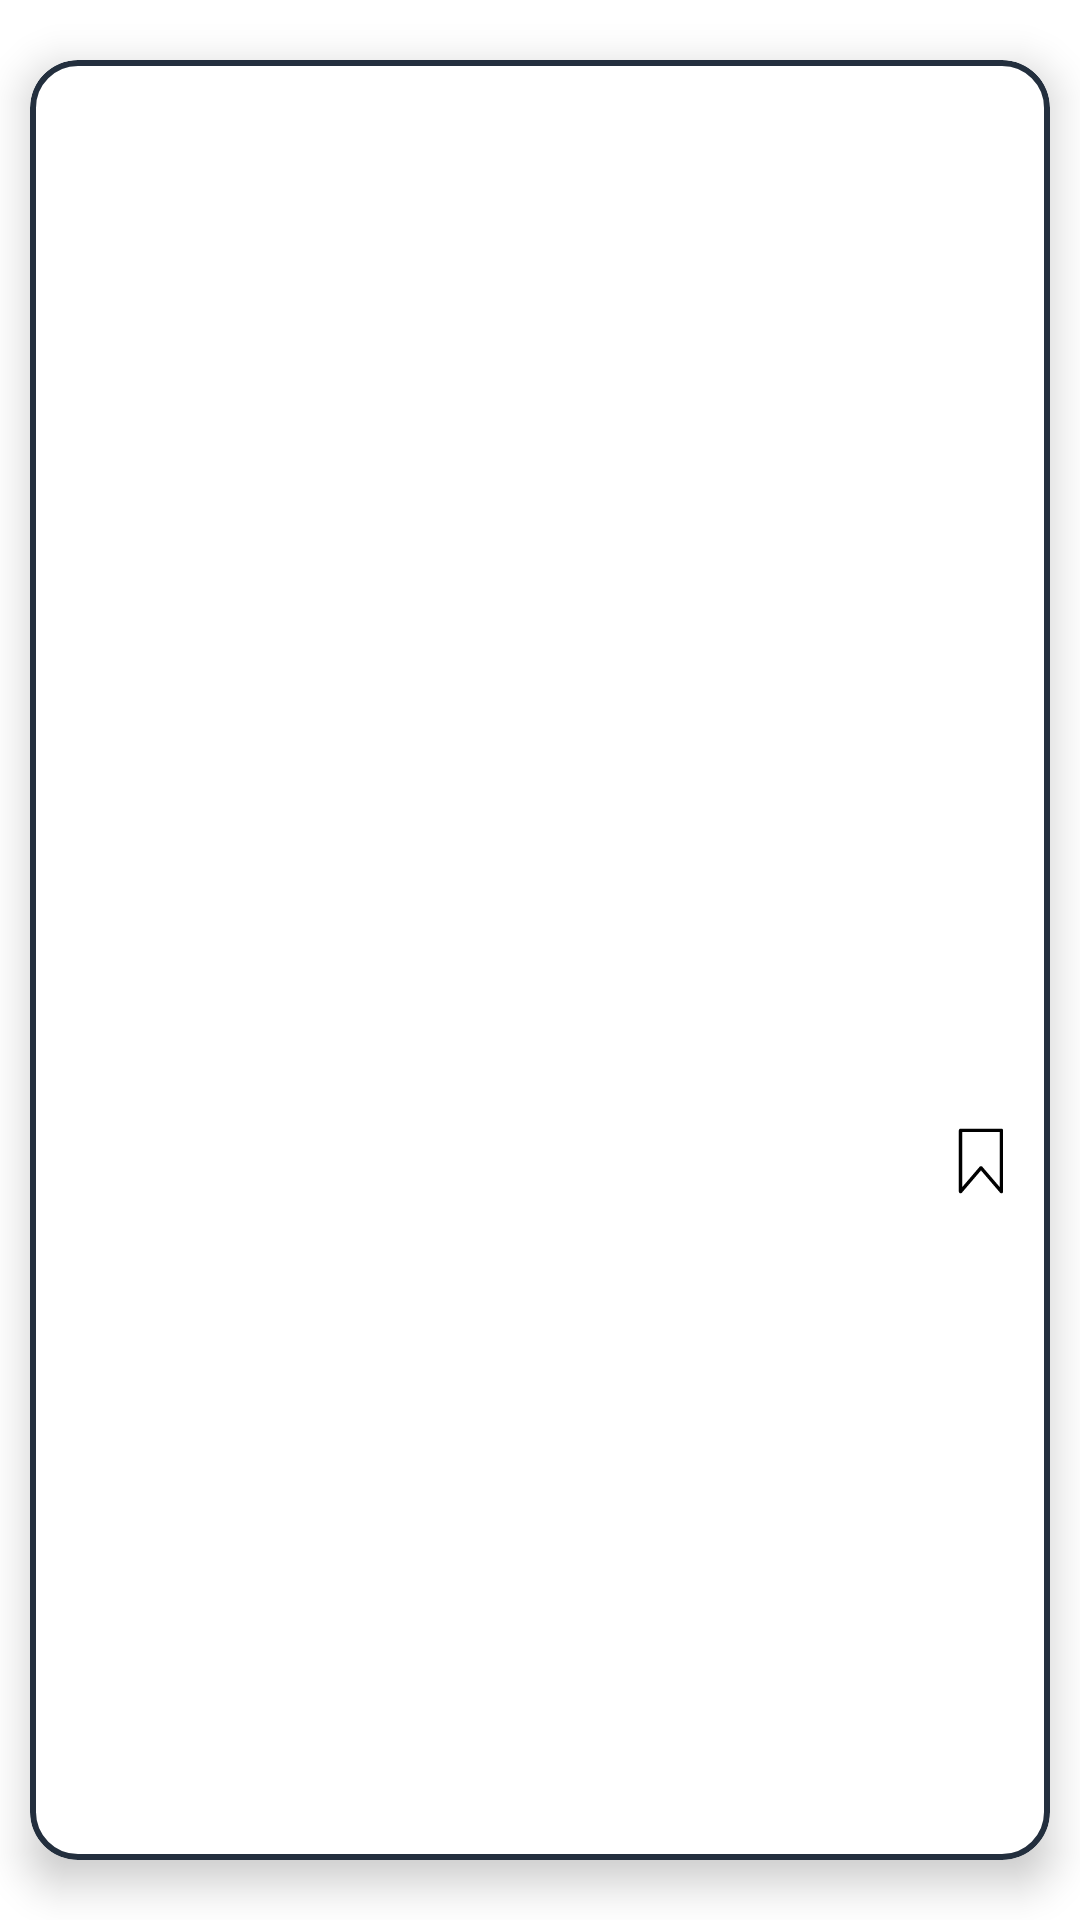

Icon bounding boxes for this 1080 x 1920 phone screenshot, format (x1, y1, x2, y2):
fav: (958, 1128, 1003, 1194)
